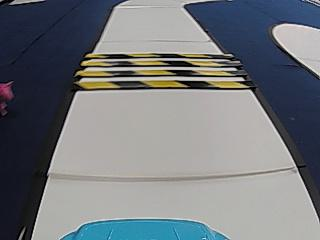bump: (67, 47, 260, 95)
